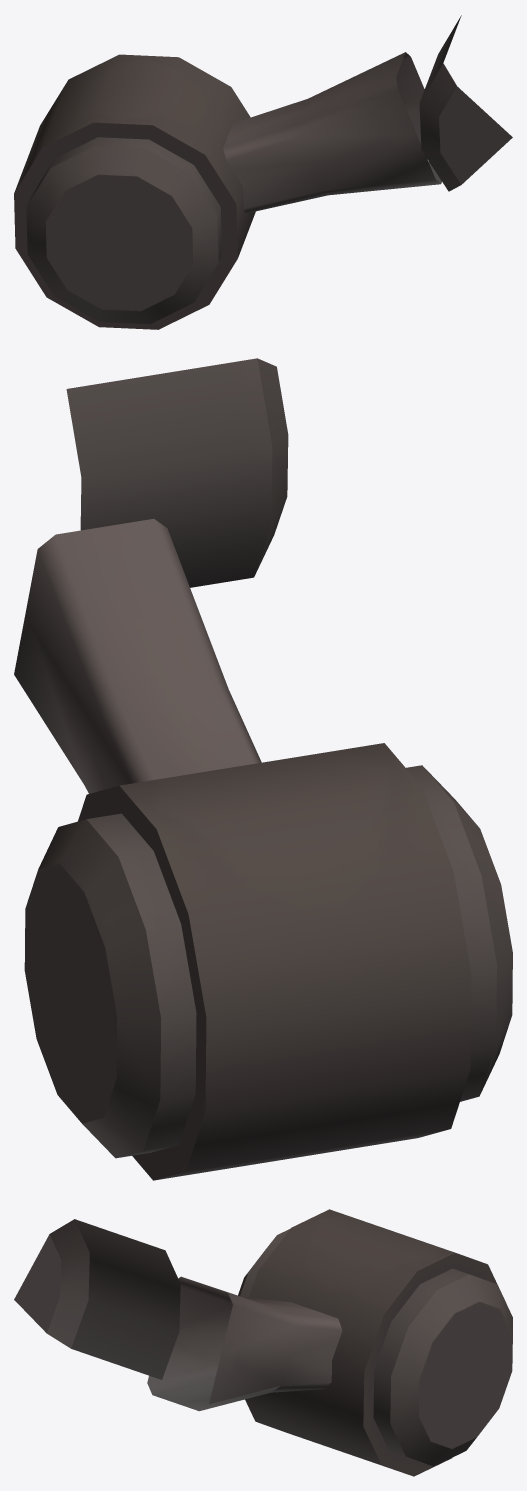
File: leg2.obj
3 renders of one model, top to bottom at view 1: azimuth 30°, elevation 25°; view 2: azimuth 150°, elevation 25°; view 3: azimuth 270°, elevation 25°, orthographic. The views are drawn at different scales.
Parts seen in each view (by area): view 1: leg2; view 2: leg2; view 3: leg2.
Boxes of the visible parts, x1,y1,x2,y2 form: leg2: [14, 15, 512, 329]; leg2: [14, 358, 512, 1180]; leg2: [14, 1209, 512, 1476].
Bounding box in the file's own units: 0.4293 × 0.355 × 0.5313.
Materials: 1 (1 with a texture image).
